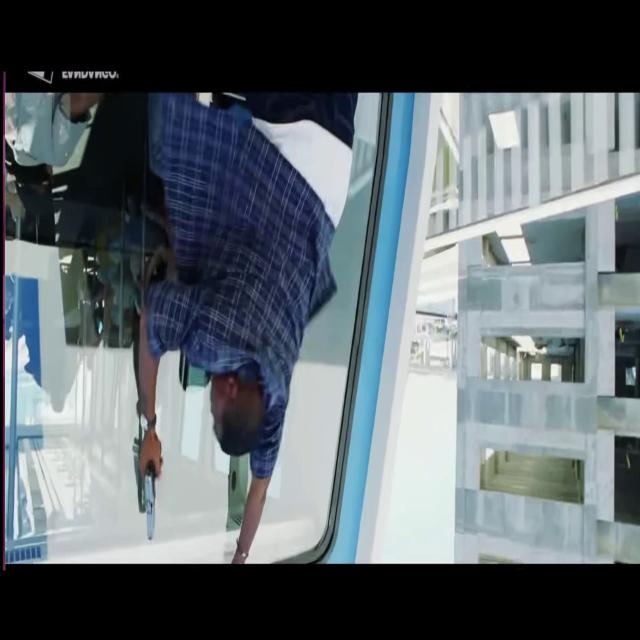weapons: (136, 424, 172, 562)
